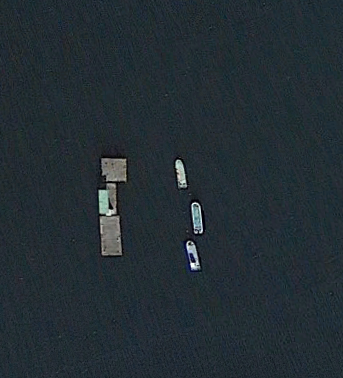platform: (94, 184, 125, 259)
ship: (188, 197, 209, 238), (169, 154, 191, 192), (181, 237, 204, 273)
square: (94, 151, 133, 184)
